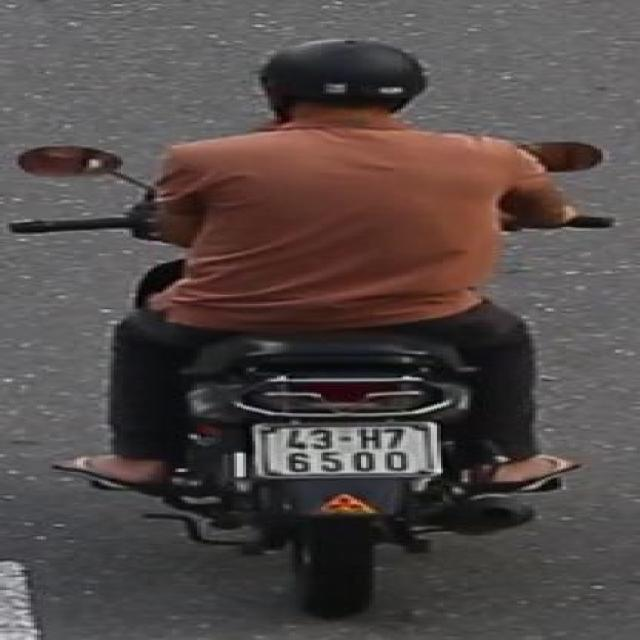LP: (246, 416, 446, 479)
helmet: (249, 35, 437, 137)
